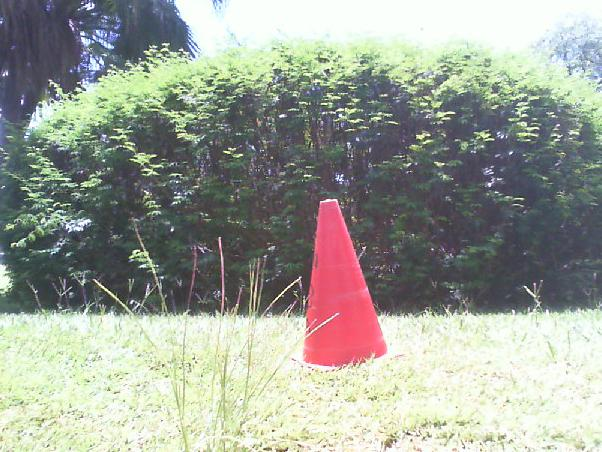0 cone: (290, 198, 404, 372)
